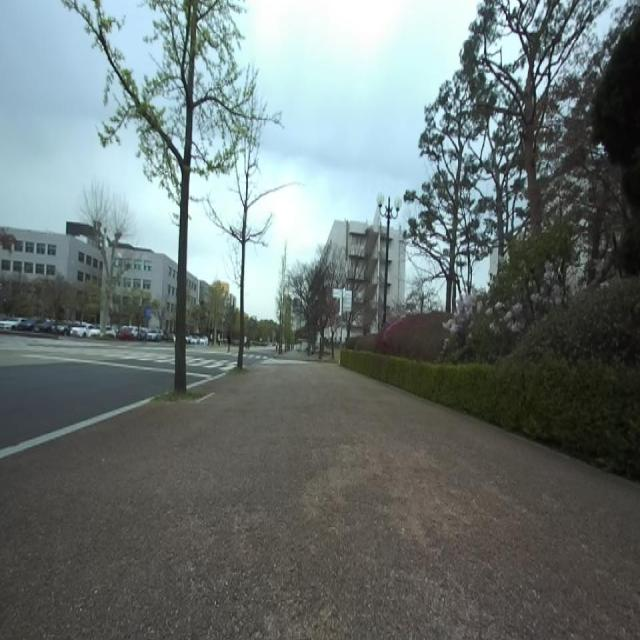sidewalk: (0, 364, 640, 639), (0, 397, 154, 458), (188, 373, 226, 388)
